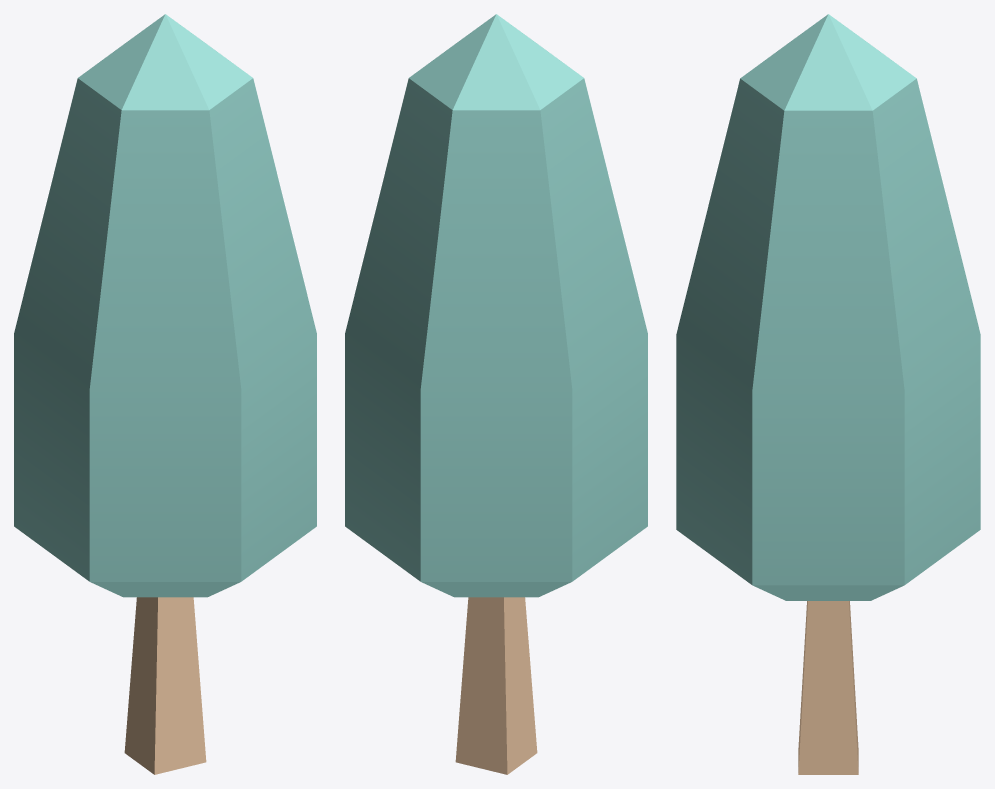
Rendered from tree_small.glb.
3 views of the same model, side by side, from view 1: azimuth 30°, elevation 25°; view 2: azimuth 150°, elevation 25°; view 3: azimuth 270°, elevation 25° (orthographic).
Parts seen in each view (by area): view 1: tree_small; view 2: tree_small; view 3: tree_small.
Part boxes in pixels (x1=…): tree_small: x1=14, y1=14, x2=316, y2=774; tree_small: x1=345, y1=14, x2=647, y2=774; tree_small: x1=676, y1=14, x2=980, y2=774.
Size of the model in its own units: 0.3546 by 1.11 by 0.4095.
